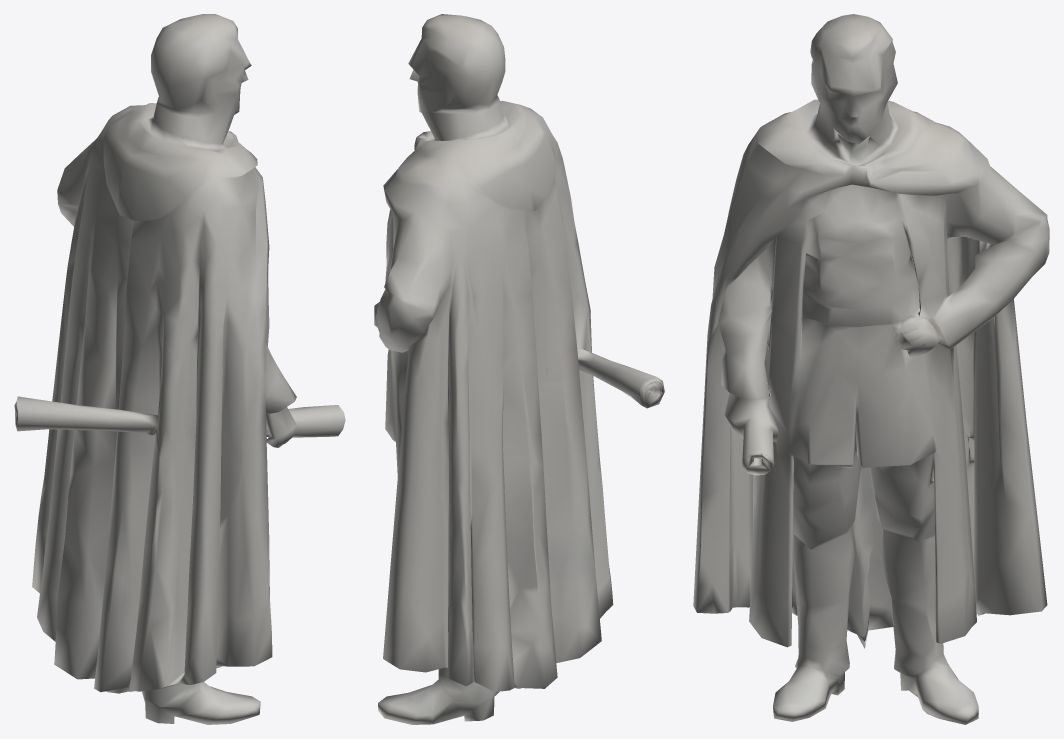
3 views of the same model, side by side, from view 1: azimuth 30°, elevation 25°; view 2: azimuth 150°, elevation 25°; view 3: azimuth 270°, elevation 25° (orthographic). The views are drawn at different scales.
Visible parts, largest first — view 1: tripo_node_8e37e54d-423c-4d59-9c2f-a257844473b0; view 2: tripo_node_8e37e54d-423c-4d59-9c2f-a257844473b0; view 3: tripo_node_8e37e54d-423c-4d59-9c2f-a257844473b0.
Part boxes in pixels (box(x1,y1,x2,y2)): tripo_node_8e37e54d-423c-4d59-9c2f-a257844473b0: box(14, 14, 345, 724); tripo_node_8e37e54d-423c-4d59-9c2f-a257844473b0: box(374, 14, 664, 724); tripo_node_8e37e54d-423c-4d59-9c2f-a257844473b0: box(693, 14, 1049, 724).
Bounding box in the file's own units: 0.4481 × 0.9997 × 0.4668.
Materials: 1 (1 with a texture image).
